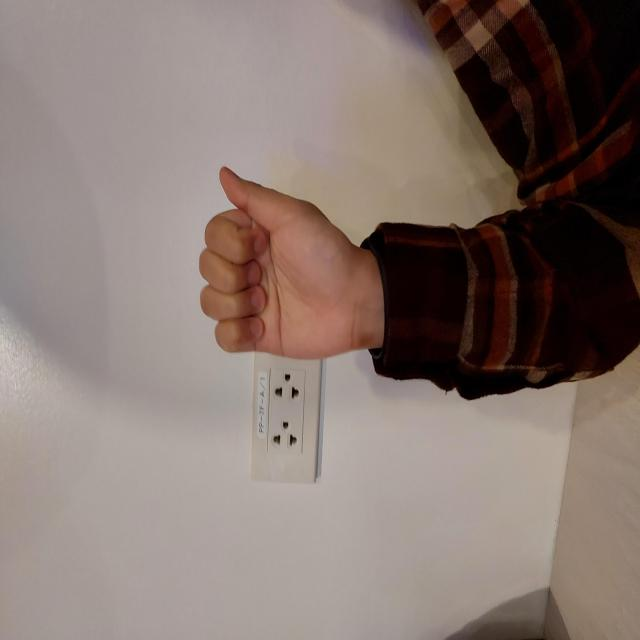A: (278, 194, 478, 367)
